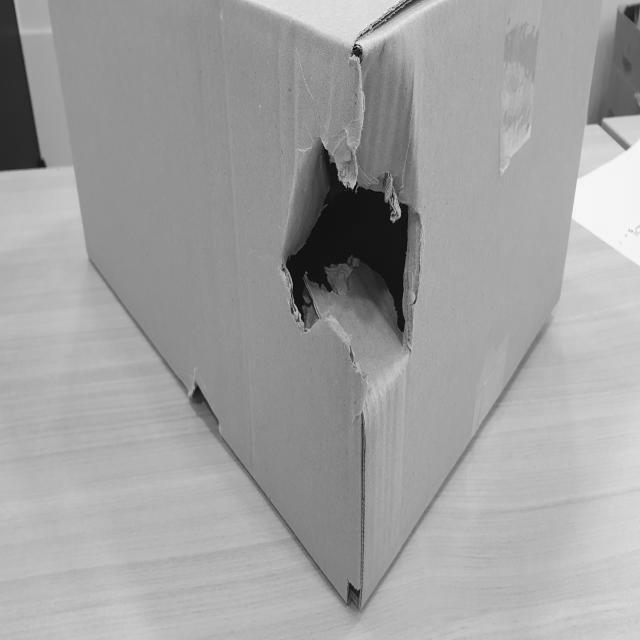hole: (280, 119, 420, 387), (186, 378, 224, 428)
